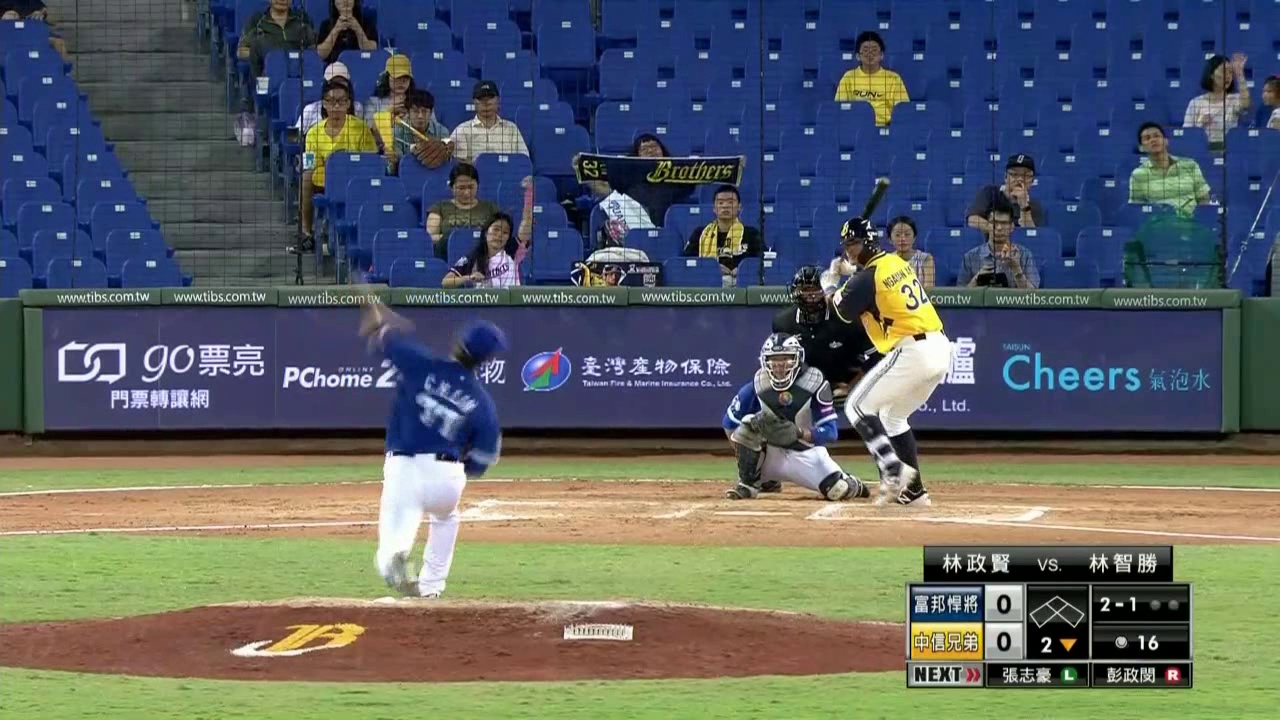base: (1028, 592, 1086, 628)
bat: (833, 173, 893, 263)
out: (1145, 589, 1183, 618)
score1: (987, 588, 1019, 616)
score2: (986, 625, 1019, 656)
session: (1028, 631, 1089, 658)
strikeball: (1093, 590, 1141, 619)
total: (1094, 631, 1183, 654)
